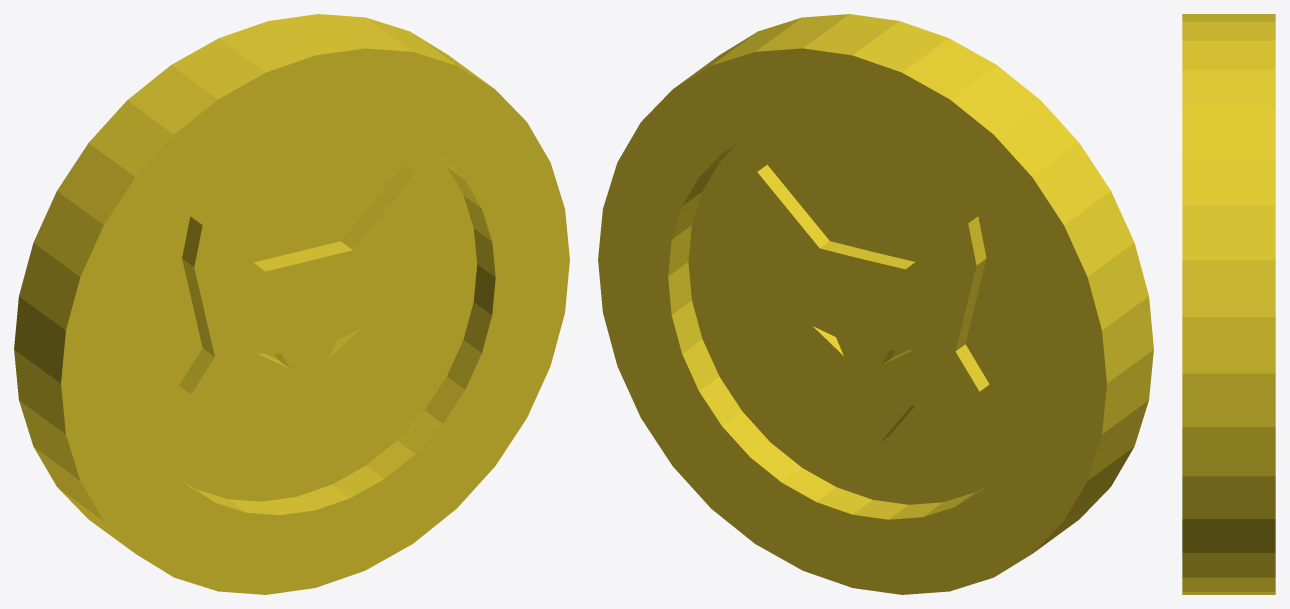
The model's file is FoxCoin.fbx.
3 renders of one model, left to right at view 1: azimuth 30°, elevation 25°; view 2: azimuth 150°, elevation 25°; view 3: azimuth 270°, elevation 25°, orthographic.
Visible parts, largest first — view 1: Cylinder; view 2: Cylinder; view 3: Cylinder.
Boxes of the visible parts, x1,y1,x2,y2 form: Cylinder: [14, 14, 569, 594]; Cylinder: [598, 14, 1153, 594]; Cylinder: [1182, 14, 1275, 594].
Bounding box in the file's own units: 100 × 100 × 16.
